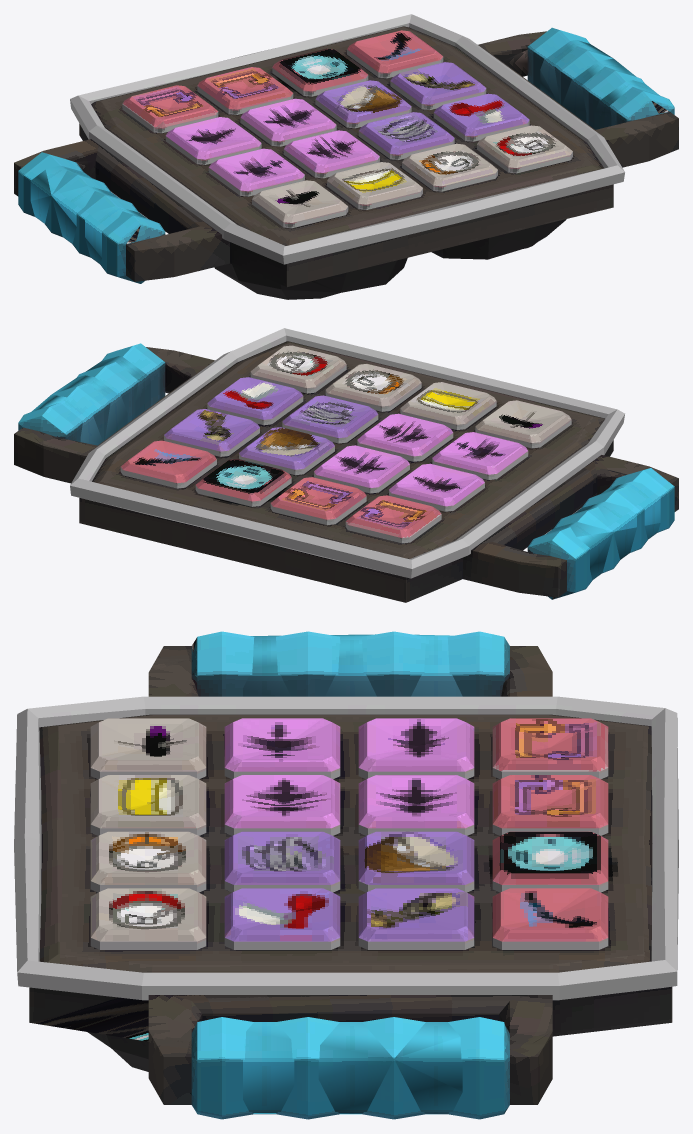
Rendered from item_midipad.glb.
3 views of the same model, one above another, from view 1: azimuth 30°, elevation 25°; view 2: azimuth 150°, elevation 25°; view 3: azimuth 270°, elevation 25° (orthographic). The views are drawn at different scales.
Parts seen in each view (by area): view 1: Hull, Butt, Buttons.013, Buttons.014, Buttons.015, Buttons.016, Buttons.002, Buttons.001, Buttons.006, Buttons.009, Buttons.012, Buttons.010 (+6 smaller); view 2: Hull, Buttons.004, Buttons.001, Buttons.002, Buttons.003, Buttons.011, Buttons.010, Buttons.012, Buttons.016, Buttons.013, Buttons.015, Buttons.008 (+5 smaller); view 3: Hull, Buttons.004, Buttons.008, Buttons.012, Buttons.016, Buttons.003, Buttons.007, Buttons.011, Buttons.015, Buttons.002, Buttons.001, Buttons.005 (+6 smaller).
Part boxes in pixels (<box>): Hull: <box>14,14,678,286</box>; Butt: <box>214,219,566,299</box>; Buttons.013: <box>252,180,348,228</box>; Buttons.014: <box>327,162,422,209</box>; Buttons.015: <box>402,143,497,191</box>; Buttons.016: <box>477,125,572,173</box>; Buttons.002: <box>197,67,293,114</box>; Buttons.001: <box>122,85,218,133</box>; Buttons.006: <box>240,98,336,146</box>; Buttons.009: <box>208,148,304,196</box>; Buttons.012: <box>433,93,529,141</box>; Buttons.010: <box>283,130,379,178</box>; Hull: <box>14,328,678,602</box>; Buttons.004: <box>120,440,216,488</box>; Buttons.001: <box>345,495,441,543</box>; Buttons.002: <box>270,477,366,525</box>; Buttons.003: <box>195,459,291,506</box>; Buttons.011: <box>282,395,378,443</box>; Buttons.010: <box>357,413,453,461</box>; Buttons.012: <box>207,377,303,425</box>; Buttons.016: <box>250,345,346,393</box>; Buttons.013: <box>475,400,571,448</box>; Buttons.015: <box>325,364,421,411</box>; Buttons.008: <box>164,409,259,456</box>; Hull: <box>14,631,678,1119</box>; Buttons.004: <box>492,888,608,949</box>; Buttons.008: <box>358,888,474,949</box>; Buttons.012: <box>224,888,340,949</box>; Buttons.016: <box>90,888,206,949</box>; Buttons.003: <box>492,831,608,892</box>; Buttons.007: <box>358,831,474,892</box>; Buttons.011: <box>224,831,340,892</box>; Buttons.015: <box>90,831,206,892</box>; Buttons.002: <box>492,775,608,835</box>; Buttons.001: <box>492,718,608,779</box>; Buttons.005: <box>358,718,474,779</box>.
Bounding box in the file's own units: 0.525 × 0.084 × 0.3474.
Materials: 1 (1 with a texture image).
